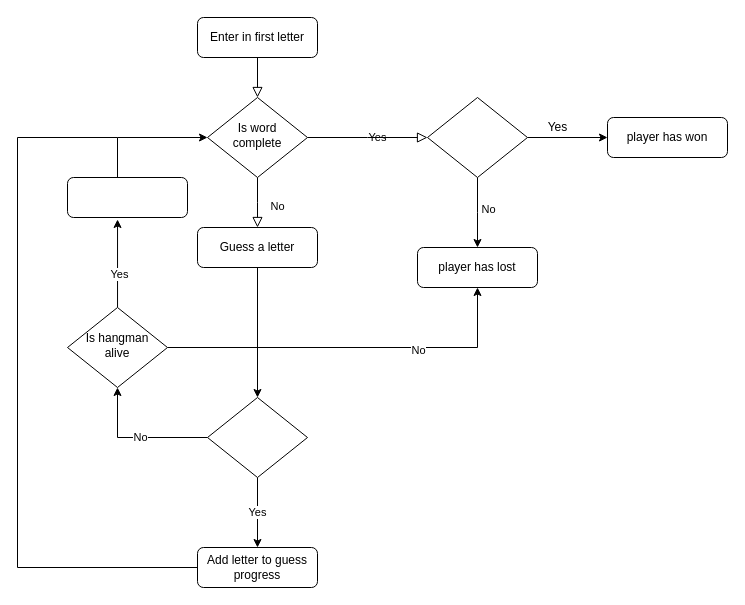
This 745x605 diagram has some shape labels left out. Here are the shapes that lost their labels. From the top down, the centre of each, then its label:
At (x=477, y=137): "Is hangman still alive?".
At (x=127, y=197): "Add to hangman".
At (x=257, y=437): "Is letter in target word".
